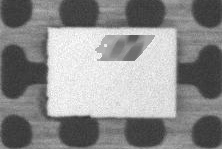DIE_INK: (128, 20, 222, 44)
